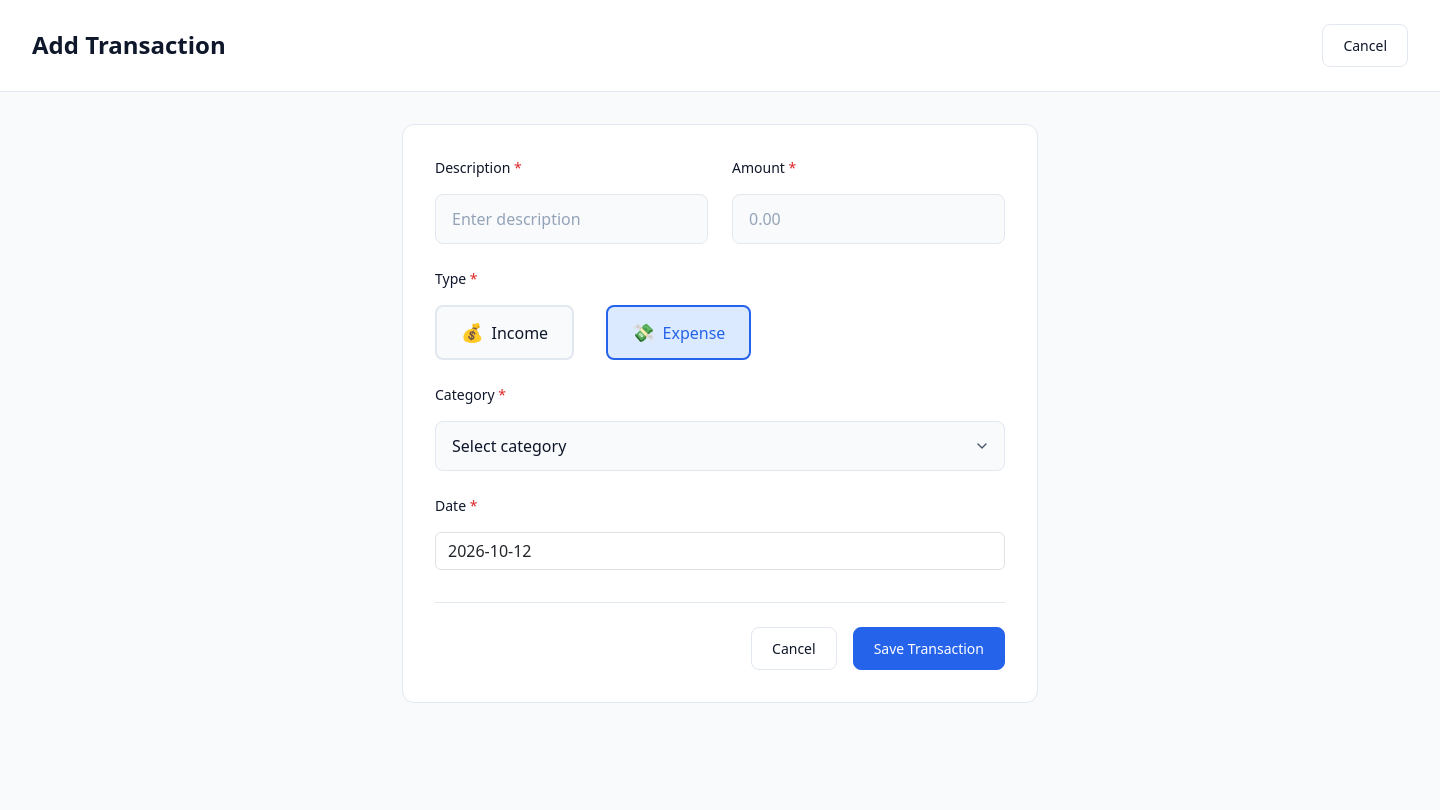
TransactionFormComponent › shows an inline error instead of an alert when saving fails
Type "Coffee" into the field with id "description".
click(572, 219); type("Coffee")  # box [435,194,708,244]
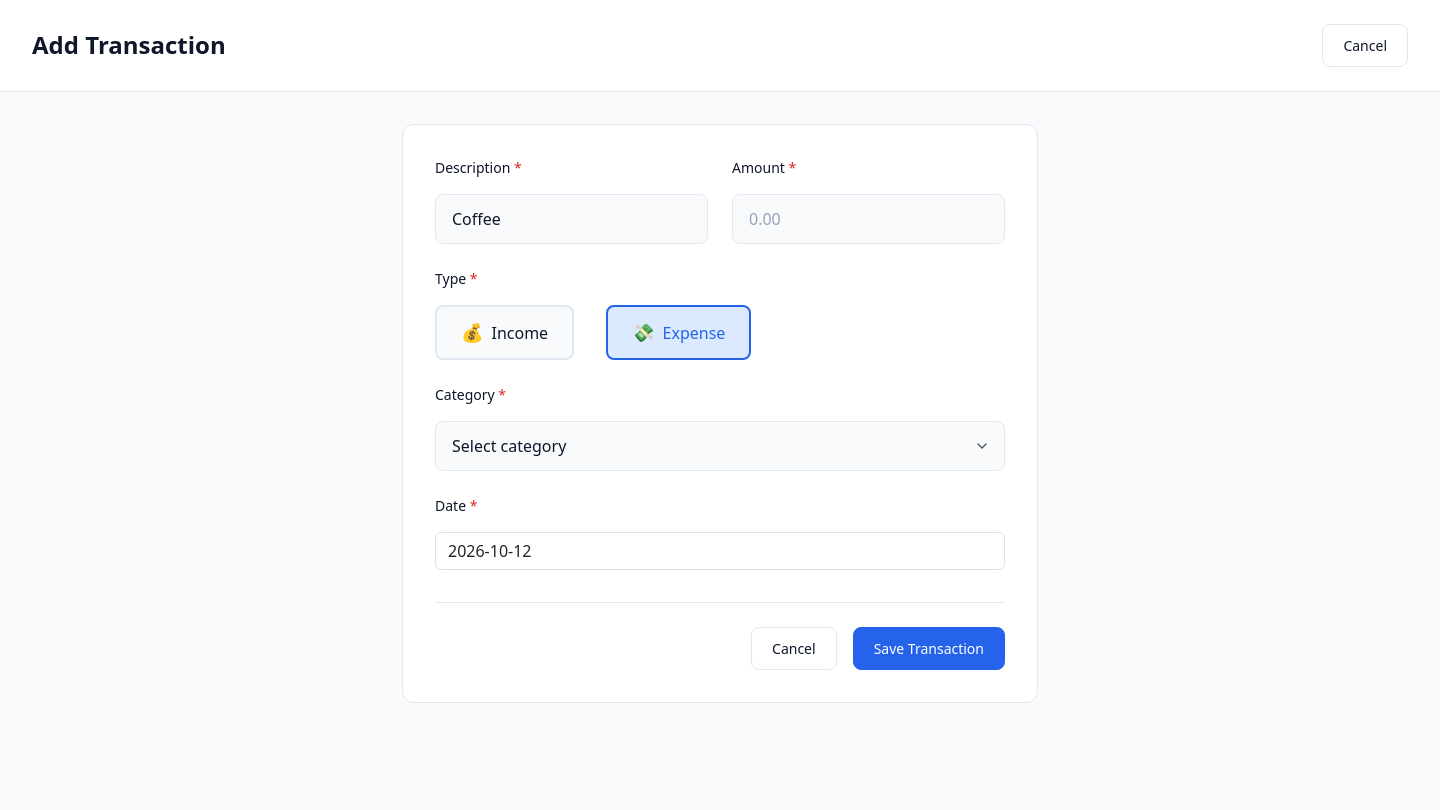
Type "5" into the number field with id "amount".
click(868, 219); type("5")  # box [732,194,1005,244]
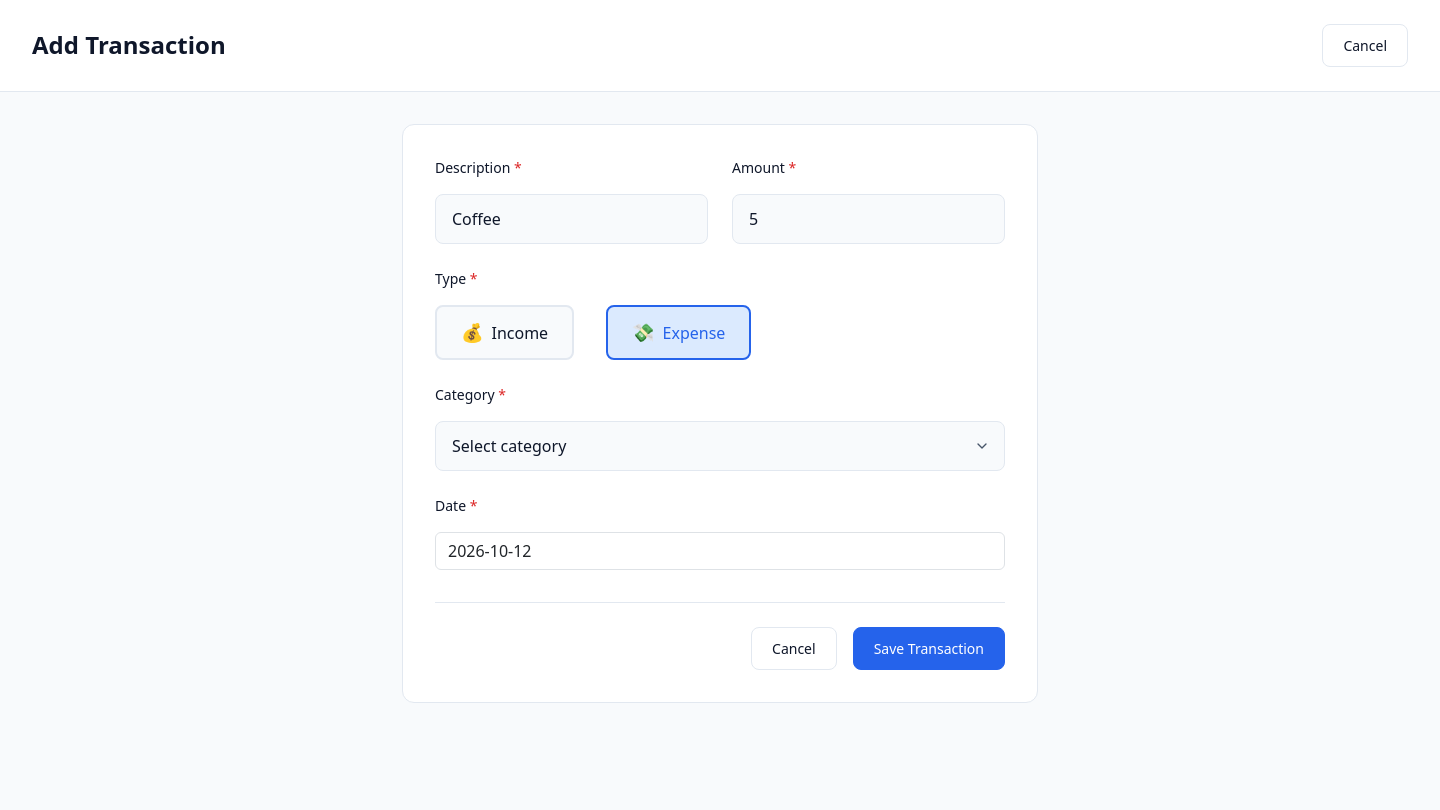
Select "Food" in the dropdown with id "category" at (720, 446), box [435,421,1005,471]
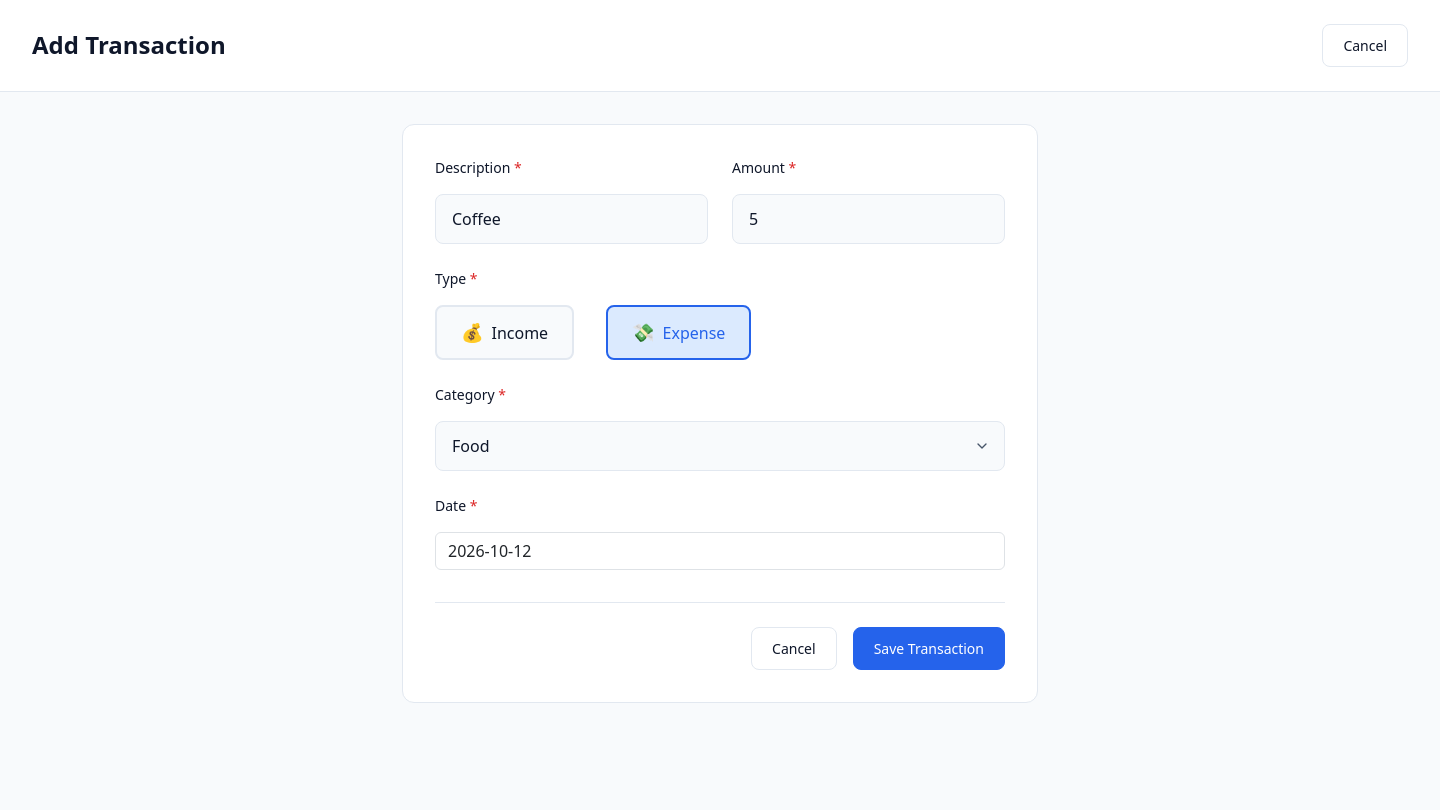
Submit the form, box [402,124,1038,703]
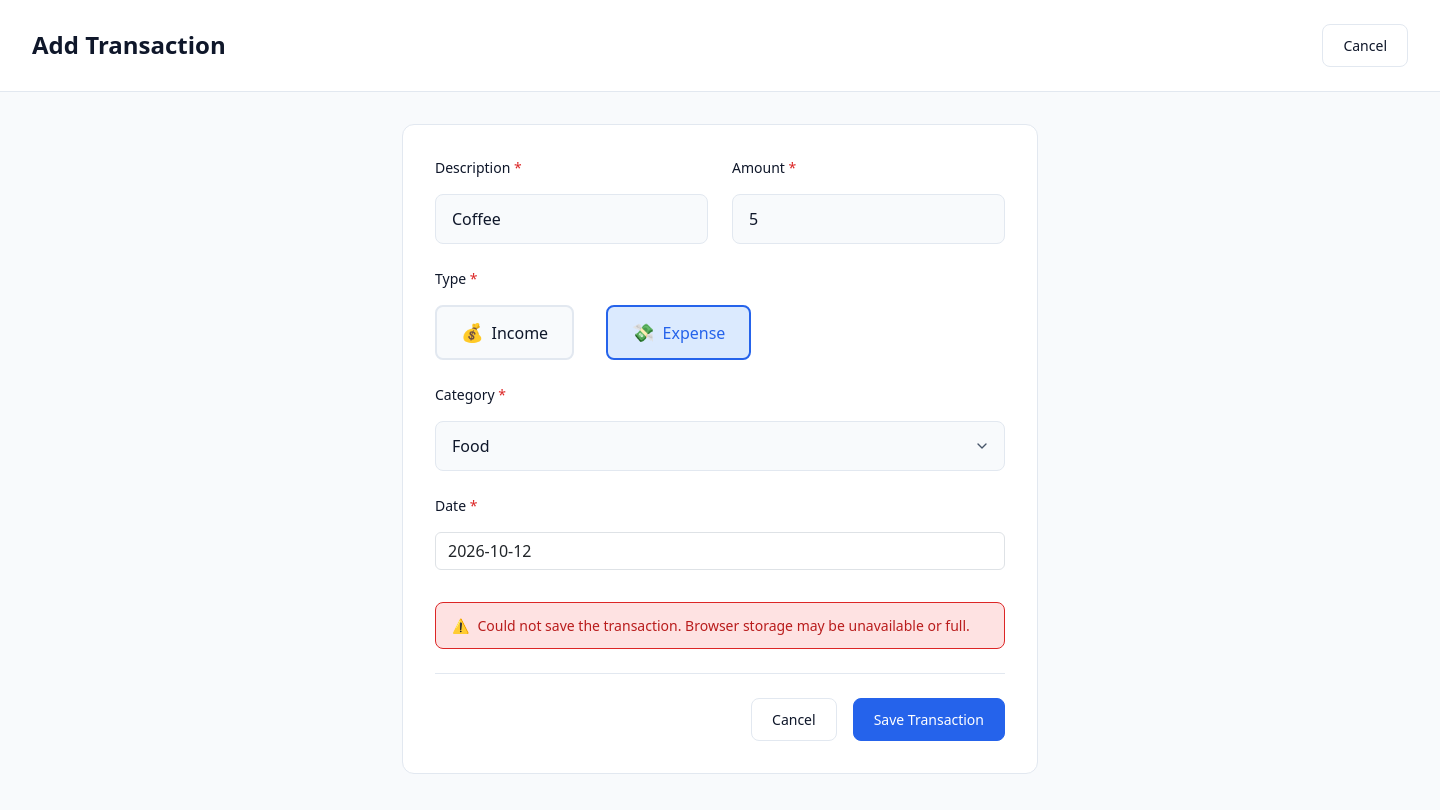
Expected: the message with class "save-error" shows "Could not save", [478,616,970,635]
